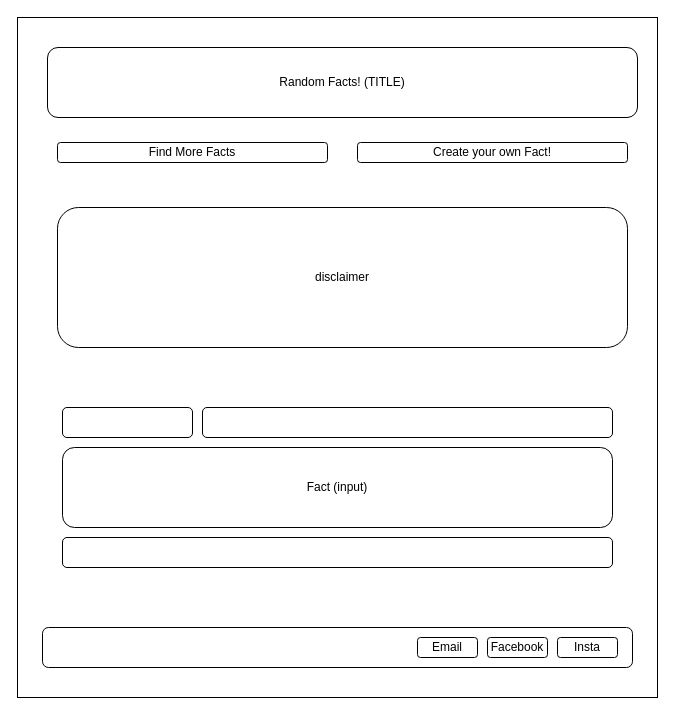
Image size: 675x715. Some labels were removed from this diagram. Here are the shapes that lost their labels. From the top down, the box of each, then its label:
(62, 406, 192, 438): Username
(202, 406, 612, 438): Input
(62, 536, 612, 568): Source Link
(42, 626, 632, 668): Share with you friends!
